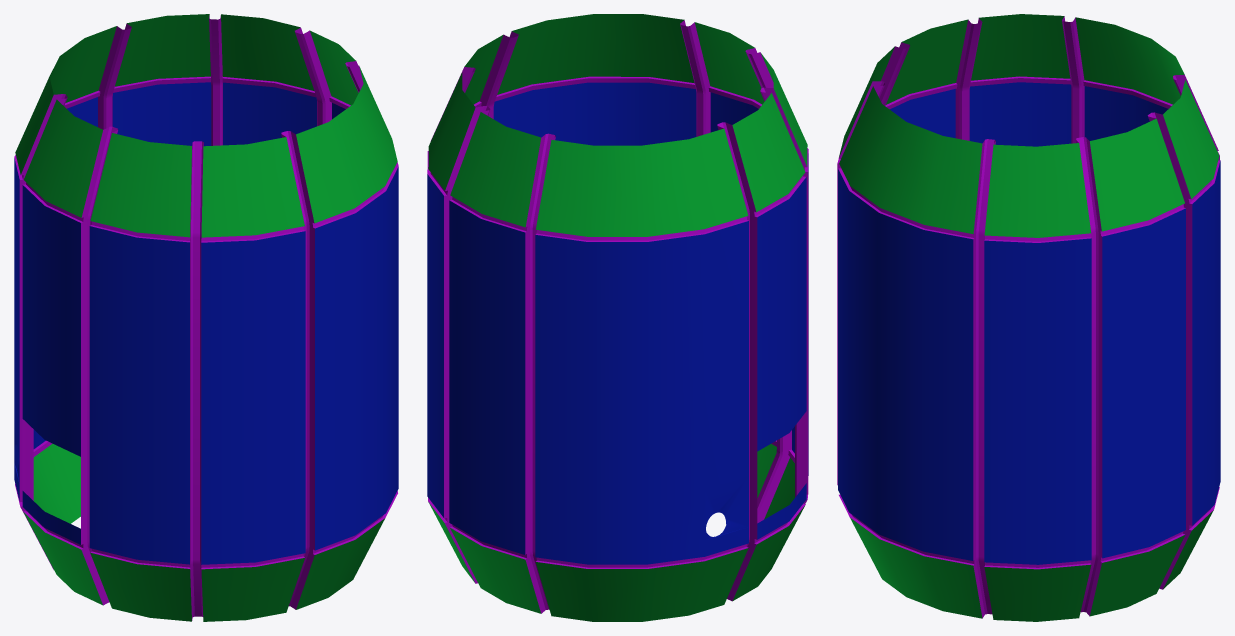
File: OBJ_Reacteur_Int.fbx
The picture shows the model from 3 angles, left to right: view 1: azimuth 30°, elevation 25°; view 2: azimuth 150°, elevation 25°; view 3: azimuth 270°, elevation 25°; orthographic projection.
Parts seen in each view (by area): view 1: OBJ_Reacteur_Int; view 2: OBJ_Reacteur_Int; view 3: OBJ_Reacteur_Int.
Part boxes in pixels (x1,y1,x2,y2): OBJ_Reacteur_Int: (14,14,398,621); OBJ_Reacteur_Int: (427,14,808,621); OBJ_Reacteur_Int: (837,14,1220,621).
Bounding box in the file's own units: 445 × 607 × 443.
